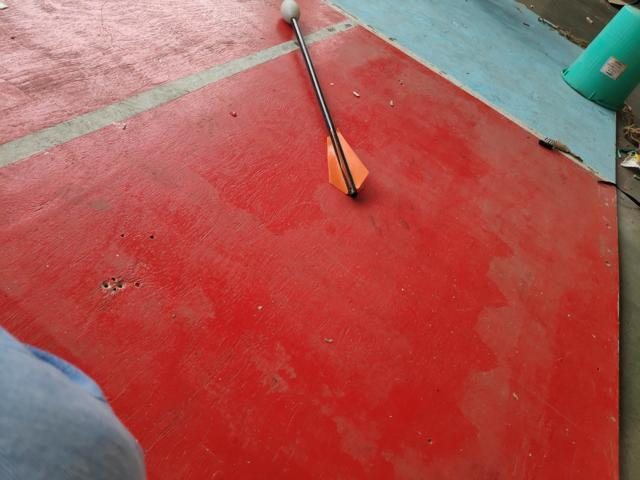Head: (278, 1, 303, 24)
Tail: (324, 128, 373, 198)
